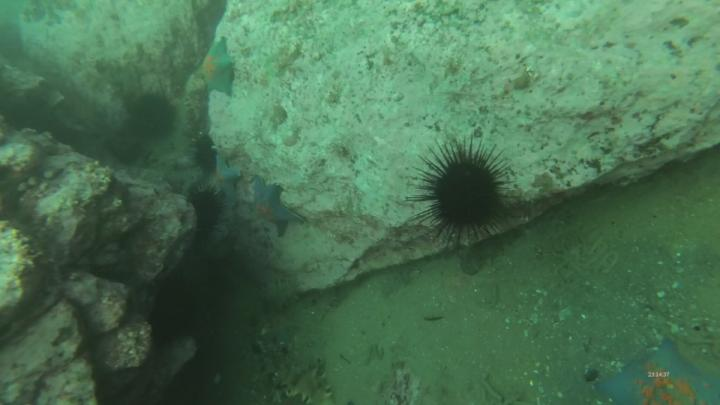echinus: (418, 146, 514, 243), (121, 88, 180, 143), (183, 133, 226, 180)
holothurian: (252, 336, 336, 405), (257, 276, 300, 314)
starfish: (592, 331, 720, 405), (248, 176, 307, 242), (199, 37, 237, 100), (212, 154, 245, 208)
